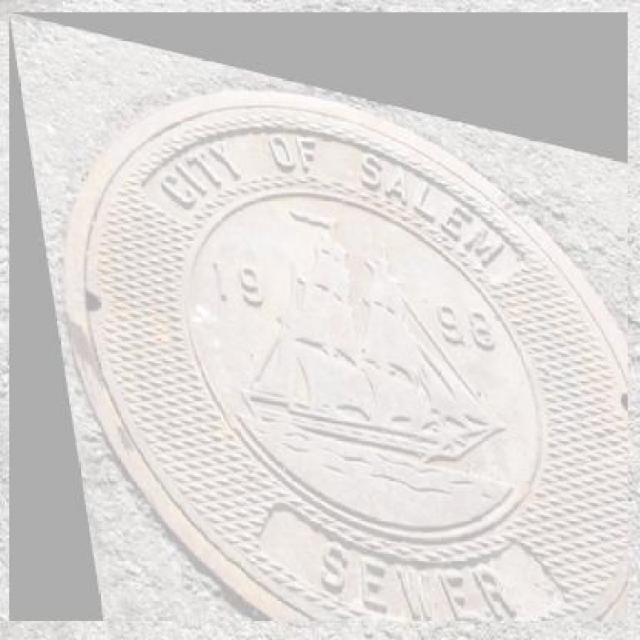Manhole: (9, 12, 628, 620)
